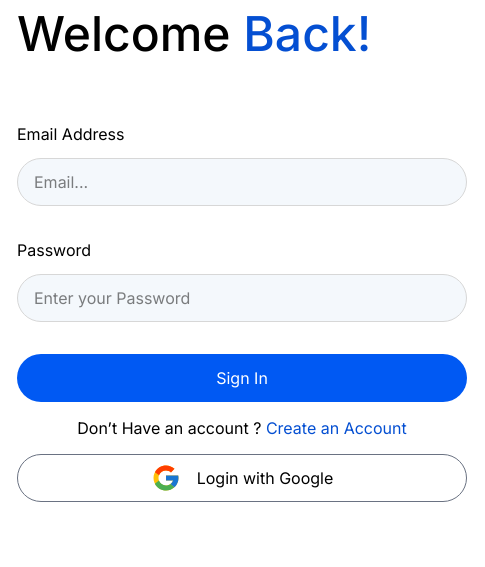
Scenario: Login UI Interaction › should show validation messages when clicking sign in with empty fields
Click the button "Sign In": click(242, 378) [17,354,467,402]
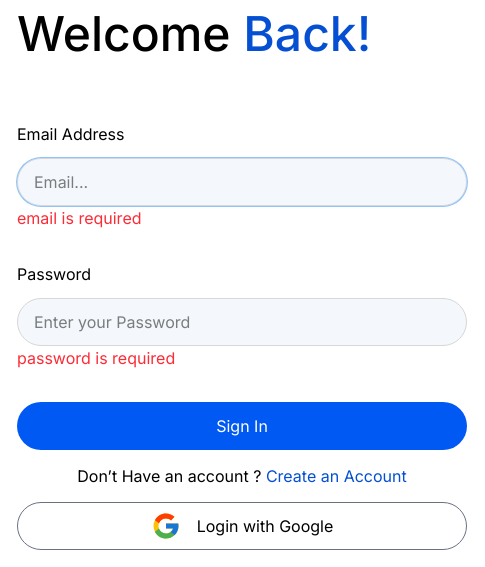
expect the text "email is required" is shown: met, box [17,208,142,228]
expect the text "password is required" is shown: met, box [17,348,175,368]
